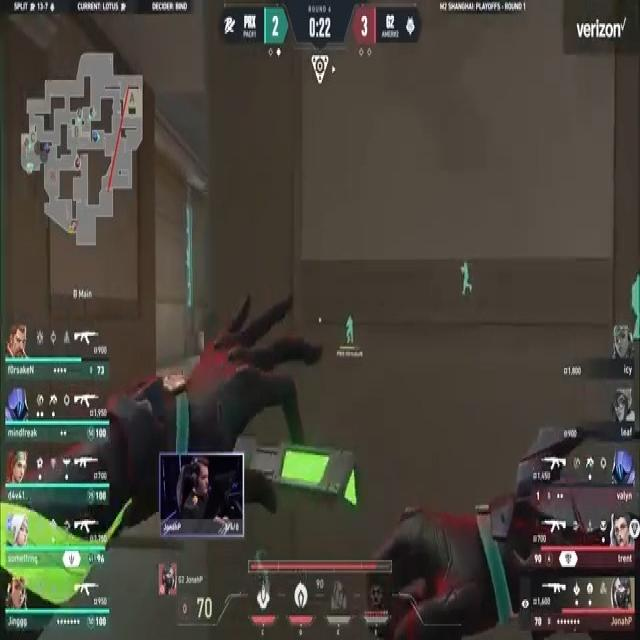ally behind wall: (455, 259, 474, 306), (342, 310, 356, 349)
